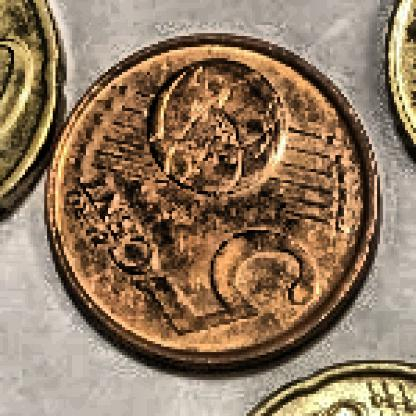coin: (36, 25, 384, 380)
